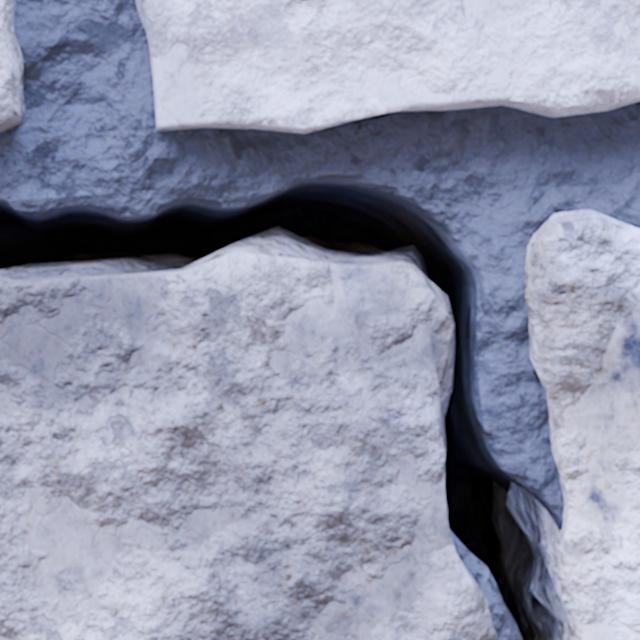crack: (0, 170, 639, 639), (136, 0, 639, 133), (0, 0, 24, 131)
